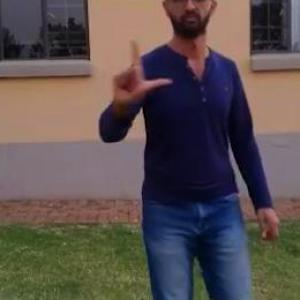land_hand: (105, 38, 175, 115)
